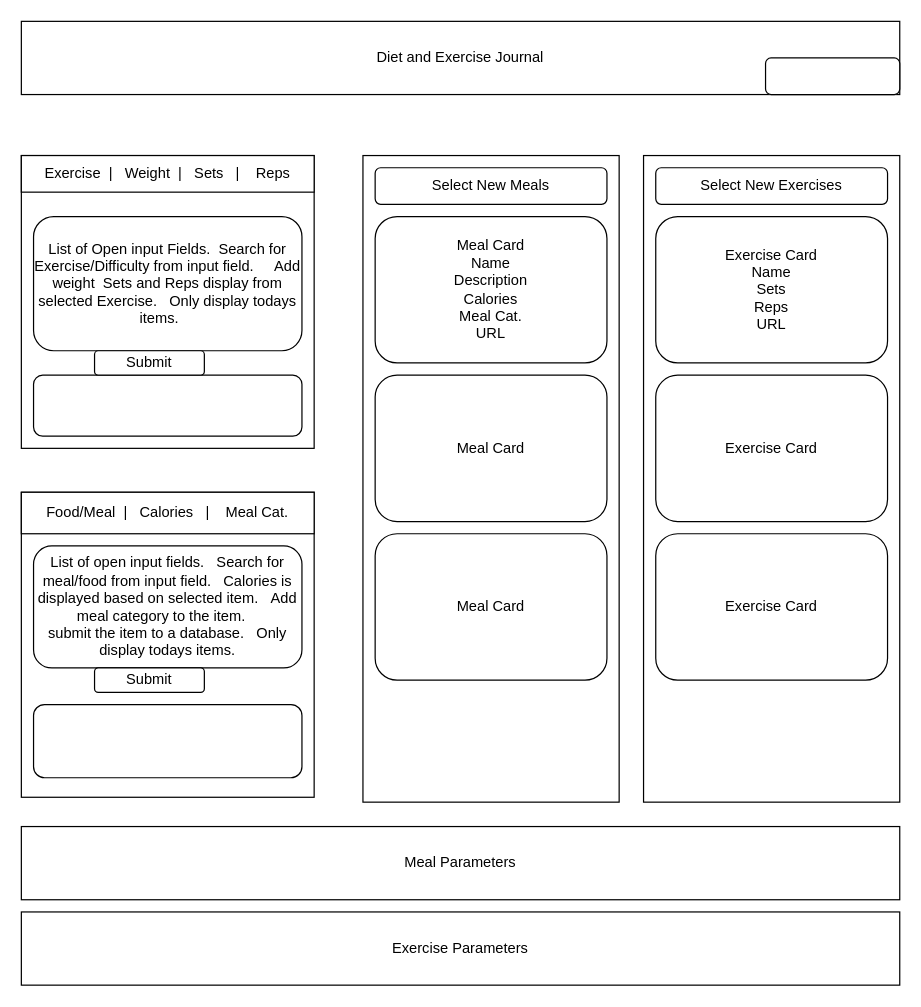
Some shapes in this 921 by 1007 pixel diagram are drawn without their labels. The centre of each missing label's shape, as x and y in pixels:
"Link to a pop up graph of prior diet data" belongs at point 167,740.
"Link to pop up graph of prior exercise data" belongs at point 167,405.
"Today's Date" belongs at point 832,76.
